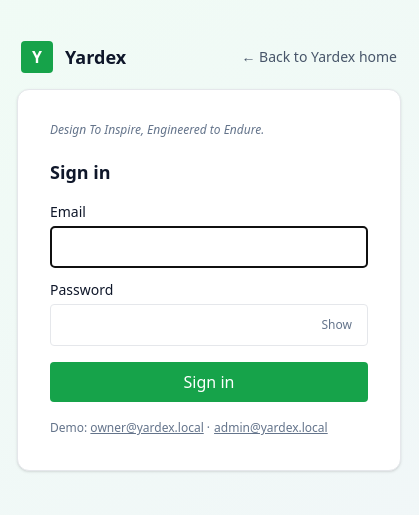
LoginPage › rejects short passwords
Type "owner@yardex.local" into the field labelled "Email".
click(209, 247); type("owner@yardex.local")  # box [50, 226, 368, 268]
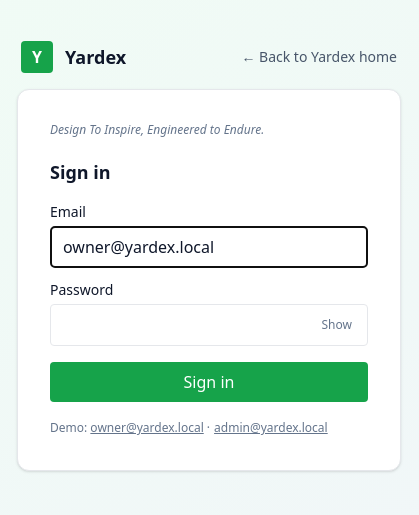
Type "123" into the password field labelled "Password".
click(209, 325); type("123")  # box [50, 304, 368, 346]
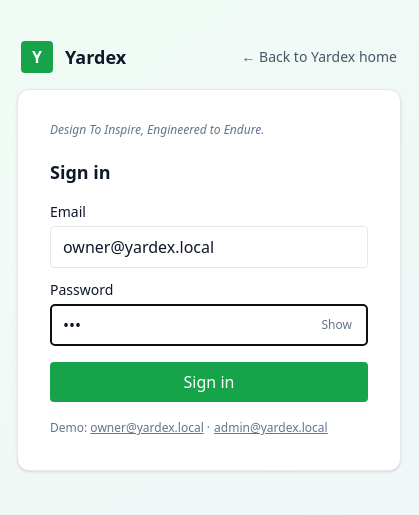
Click the button "Sign in".
click(209, 382)  # box [50, 362, 368, 402]
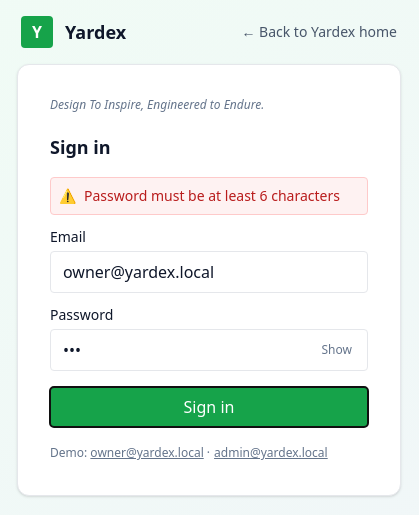
Now the message shows "Password must be at least 6 characters", box [84, 186, 340, 205]
